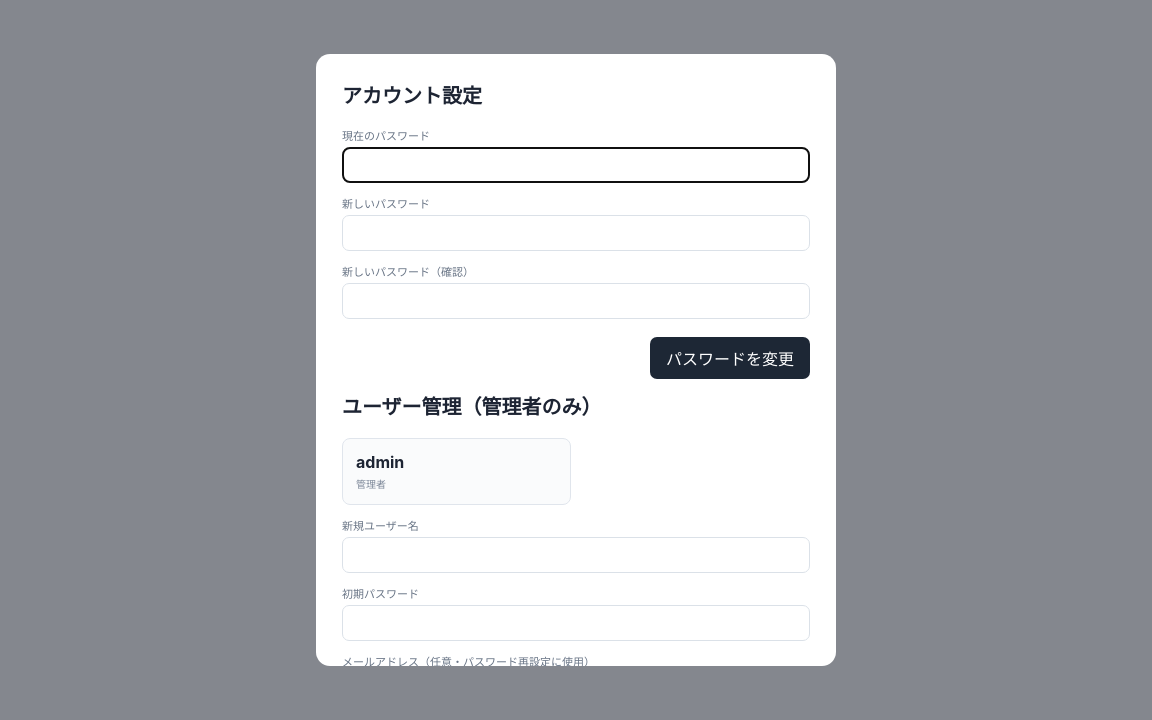
AccountPanel › loads and lists users, and can add a new one, for an admin
Expected: the text "admin" is shown, [356,452,404,472]
In the field labelled "新規ユーザー名": (576, 555) [342,537,810,573], type "newmember"
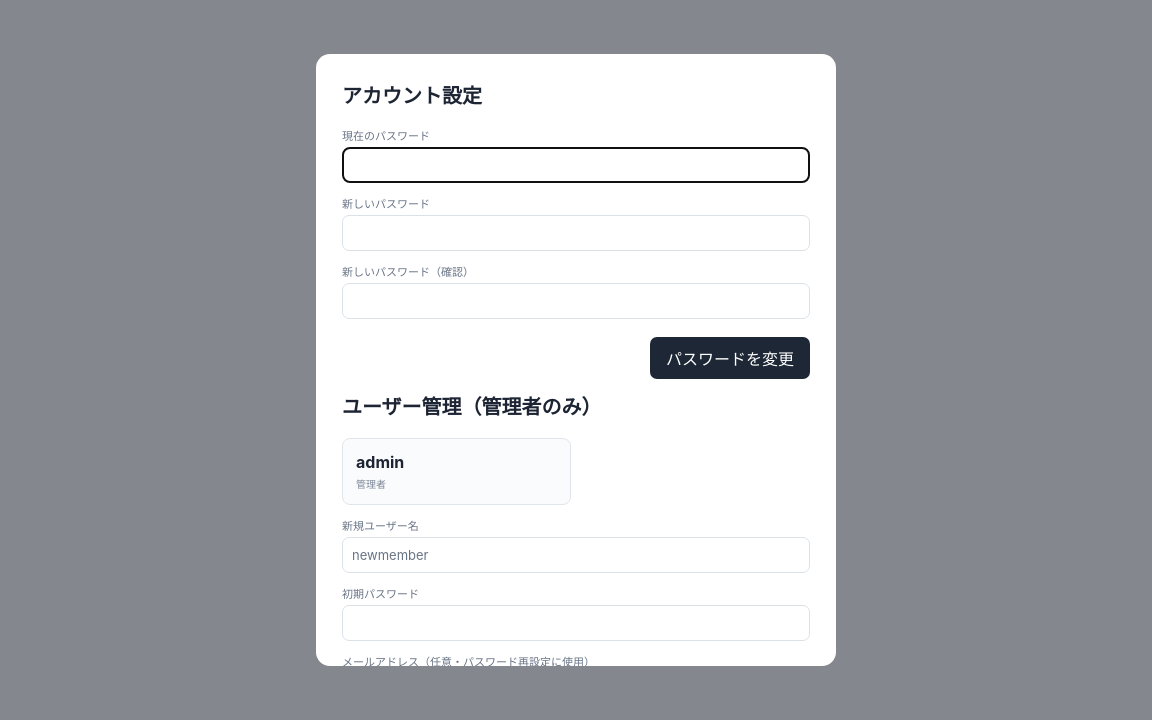
In the password field labelled "初期パスワード": (576, 623) [342,605,810,641], type "init-pass"
(page scrolled)
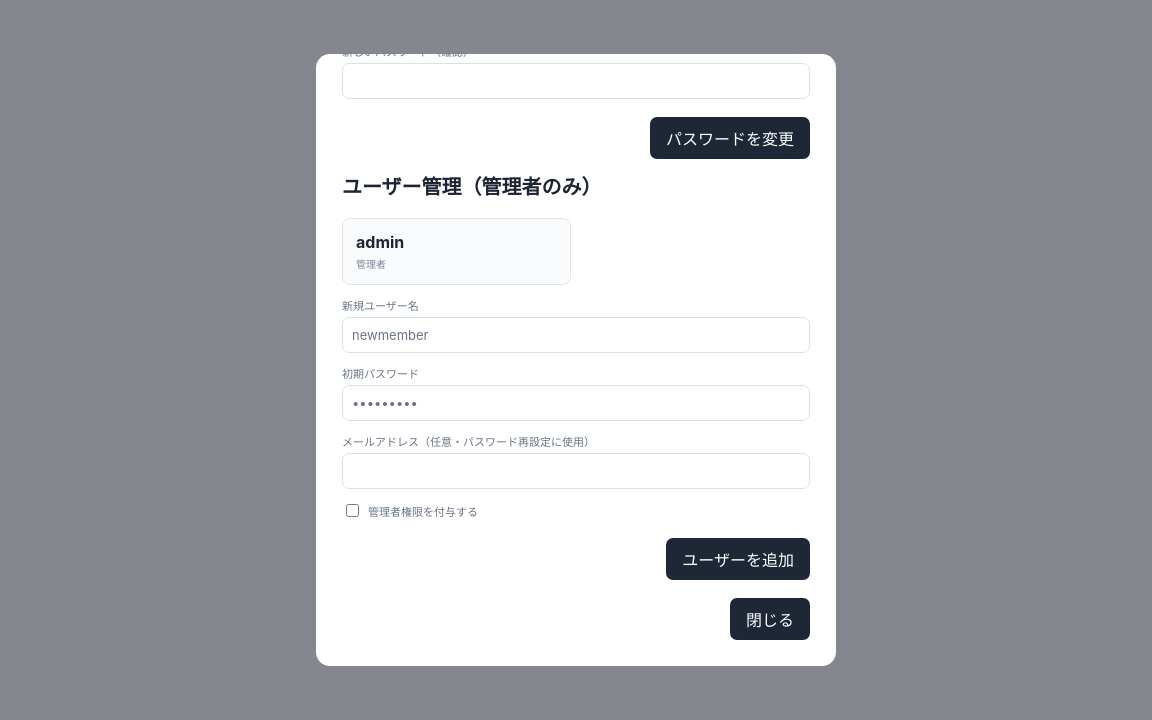
Click the button "ユーザーを追加": click(738, 559) [666,538,810,580]
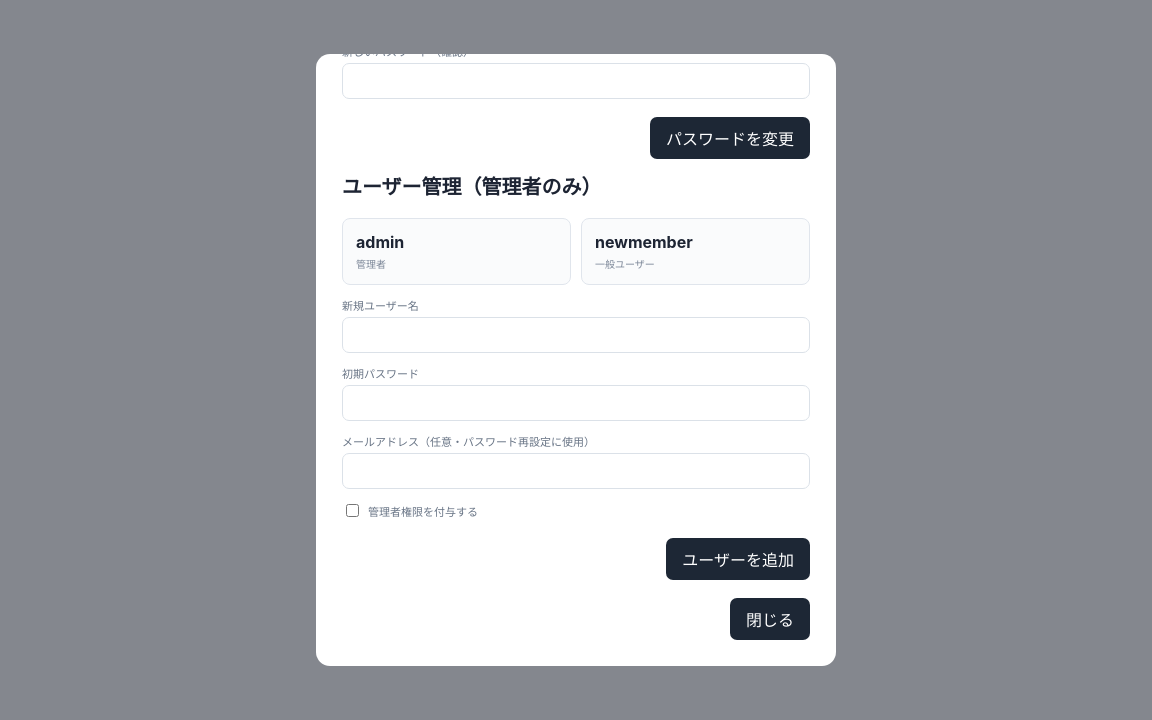
Expected: the text "newmember" is shown, [595,232,693,252]
